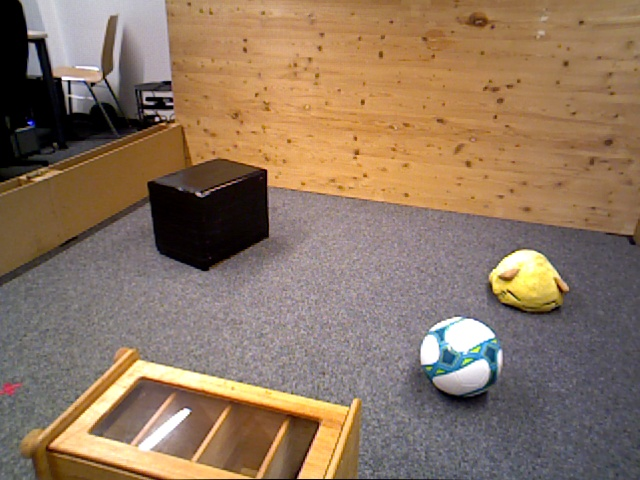grasp: (488, 247, 569, 314)
kick: (420, 317, 503, 401)
push: (147, 158, 270, 270)
